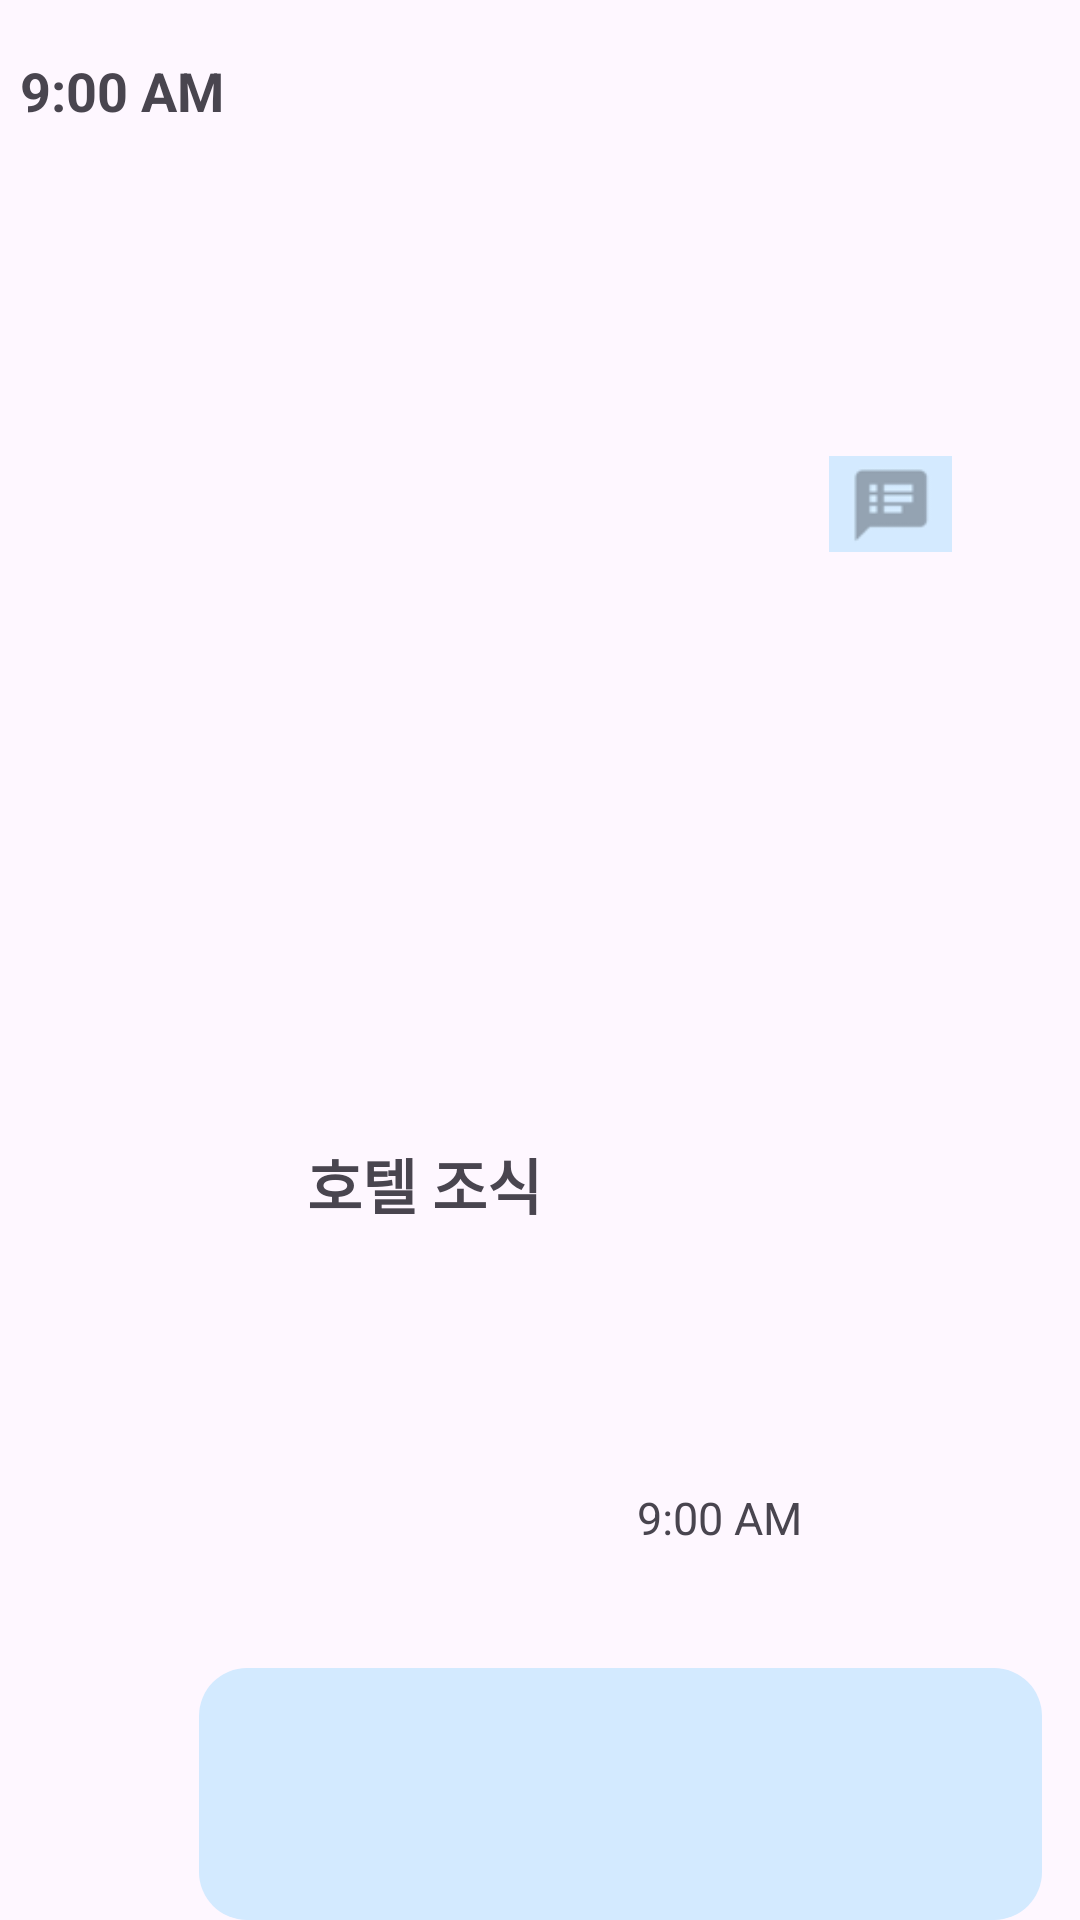

Icon click points for this 1080w x 1920h phone screenshot, format (x=x, y=y):
memo: (x=890, y=504)
